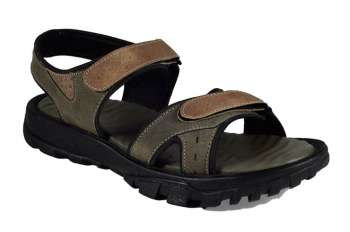Footwear: (20, 21, 329, 212)
